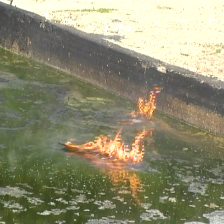fire_h: (63, 125, 151, 166), (131, 88, 162, 117)
